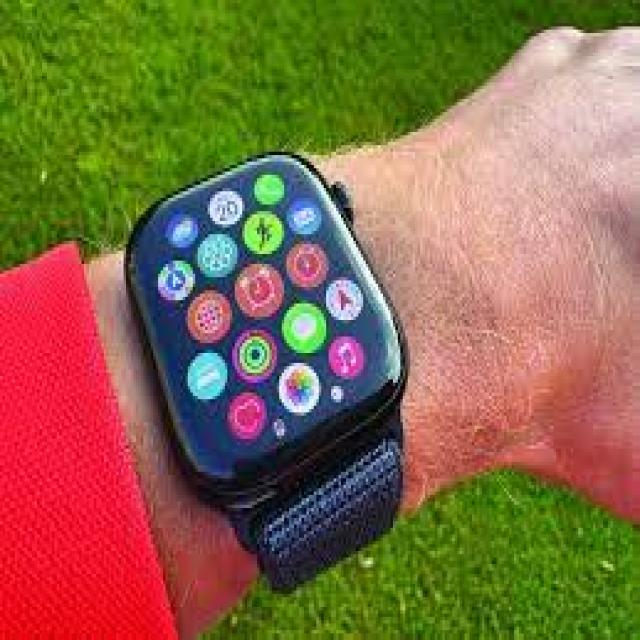objects: (122, 150, 410, 589)
